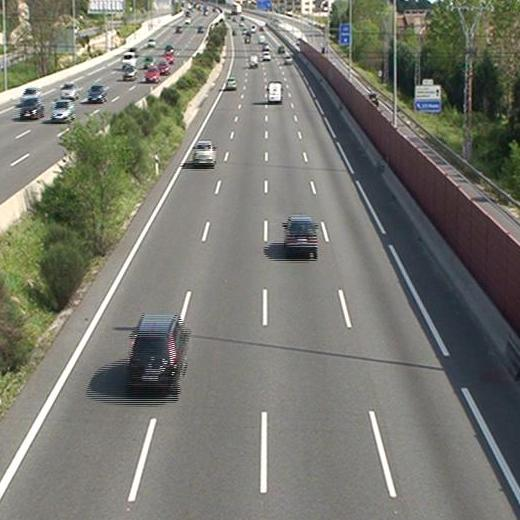car: (127, 313, 189, 392), (282, 215, 320, 255), (192, 139, 216, 166), (225, 77, 237, 90), (283, 53, 292, 64), (262, 52, 271, 61)
van: (265, 80, 281, 102), (249, 54, 259, 69)
